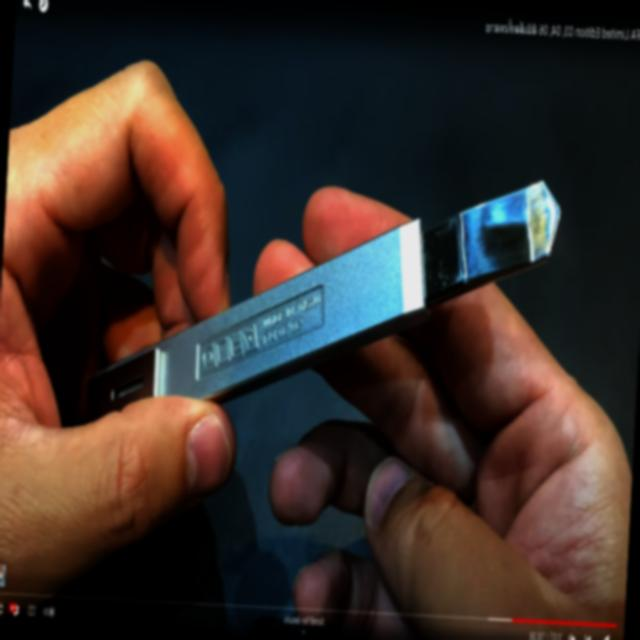cutter: (0, 82, 627, 573)
